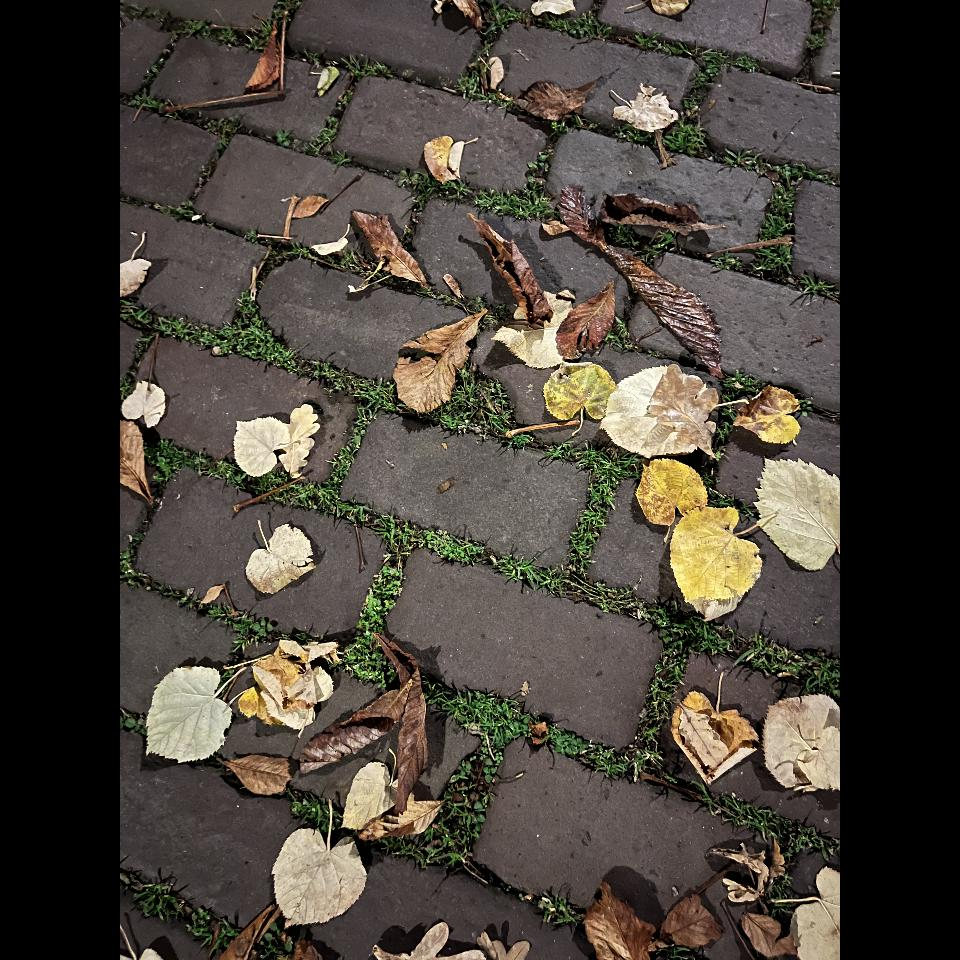weed: (270, 481, 840, 695), (547, 721, 840, 857), (120, 294, 400, 424), (374, 745, 499, 873), (423, 677, 533, 759), (146, 441, 257, 493), (399, 170, 473, 211), (474, 182, 551, 219), (661, 644, 683, 678), (650, 680, 669, 710)
